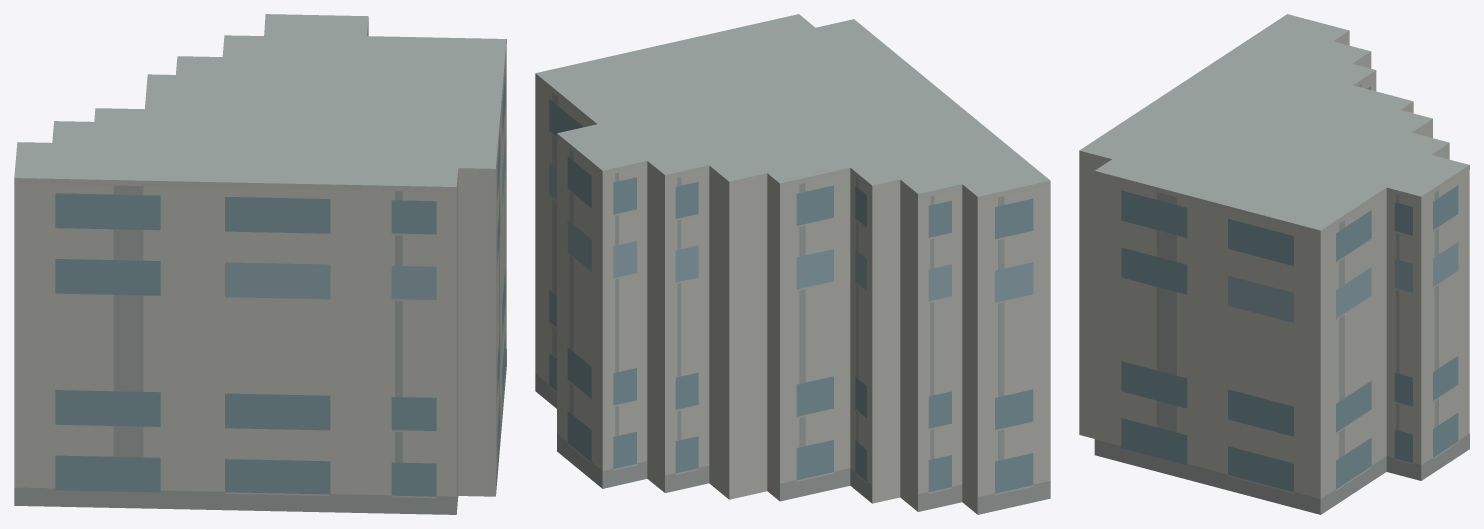
Rendered from survey-upis-32750496.glb.
3 views of the same model, side by side, from view 1: azimuth 30°, elevation 25°; view 2: azimuth 150°, elevation 25°; view 3: azimuth 270°, elevation 25° (orthographic). The views are drawn at different scales.
Visible parts, largest first — view 1: survey-upis-32750496.tmp; view 2: survey-upis-32750496.tmp; view 3: survey-upis-32750496.tmp.
Part boxes in pixels (box(x1,y1,x2,y2)): survey-upis-32750496.tmp: box(14, 14, 506, 514); survey-upis-32750496.tmp: box(535, 14, 1050, 514); survey-upis-32750496.tmp: box(1079, 14, 1469, 514).
Bounding box in the file's own units: 23.86 × 14.6 × 18.18.
